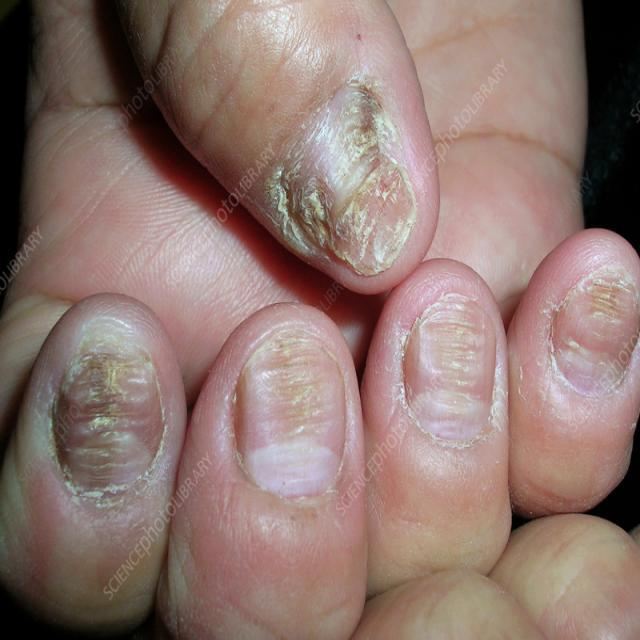Fingernail: (279, 84, 414, 275), (55, 313, 162, 497), (235, 326, 344, 498), (407, 296, 493, 444), (555, 267, 639, 396)
